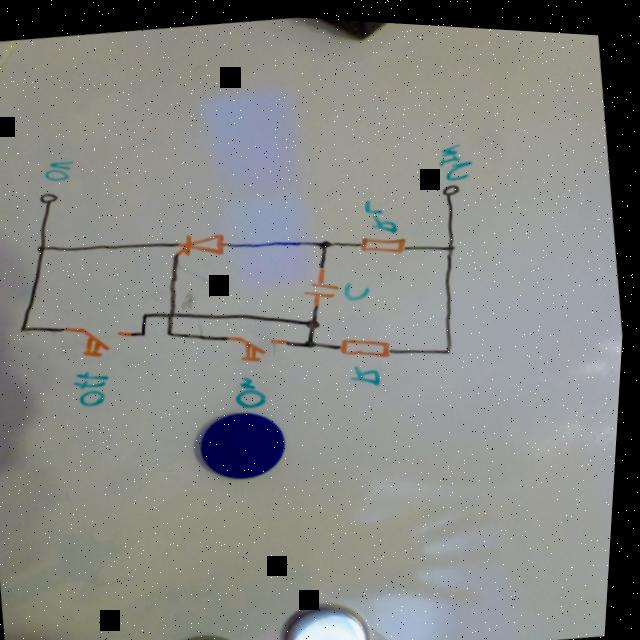capacitor: (306, 271, 344, 302)
crossover: (168, 307, 183, 320)
junction: (308, 314, 326, 328), (318, 235, 337, 247), (307, 335, 323, 346), (167, 327, 180, 338), (38, 243, 51, 254), (448, 238, 461, 249), (22, 324, 36, 334), (446, 341, 458, 351), (144, 309, 155, 319), (142, 327, 153, 337)
resistor: (344, 329, 396, 359), (363, 228, 410, 254)
switch: (66, 318, 138, 362), (231, 326, 293, 365)
terminal: (442, 177, 464, 193), (41, 191, 62, 207)
text: (76, 366, 119, 409), (439, 137, 478, 178), (365, 192, 403, 234), (238, 371, 273, 409), (353, 359, 387, 385), (46, 159, 78, 184), (346, 276, 375, 299)
thyristor: (178, 227, 233, 259)
